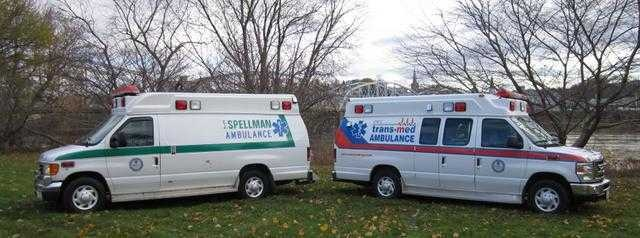Ambulance: (45, 70, 312, 228), (334, 81, 620, 203)
